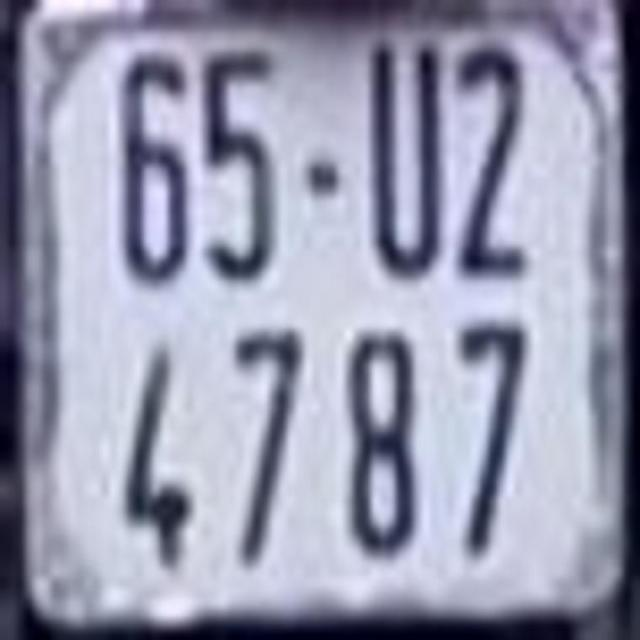2: (452, 35, 523, 266)
4: (125, 336, 192, 562)
5: (200, 48, 276, 282)
6: (117, 50, 192, 288)
7: (228, 328, 302, 578), (453, 319, 526, 562)
8: (347, 321, 420, 562)
U: (362, 31, 444, 282)
